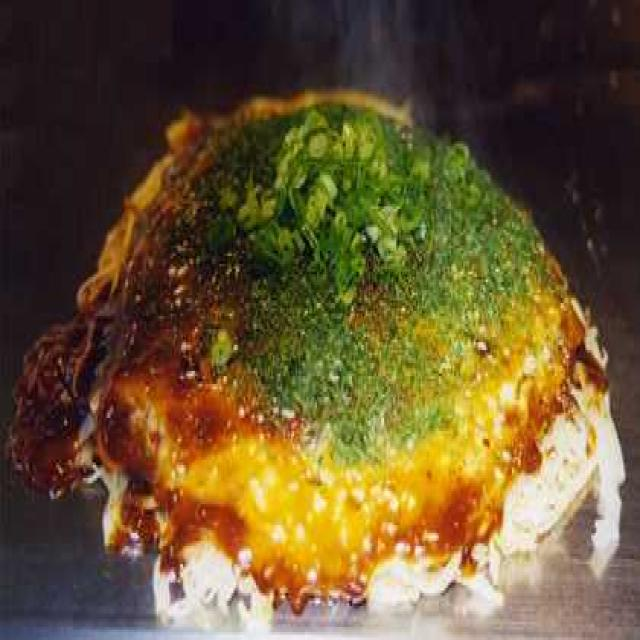蛋糕甜品: (64, 78, 640, 609)
